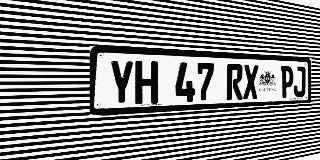4: (175, 62, 195, 103)
7: (196, 63, 214, 102)
H: (135, 61, 158, 105)
J: (293, 66, 306, 97)
P: (281, 66, 293, 98)
R: (226, 64, 243, 100)
X: (243, 64, 258, 100)
Y: (109, 60, 134, 106)
